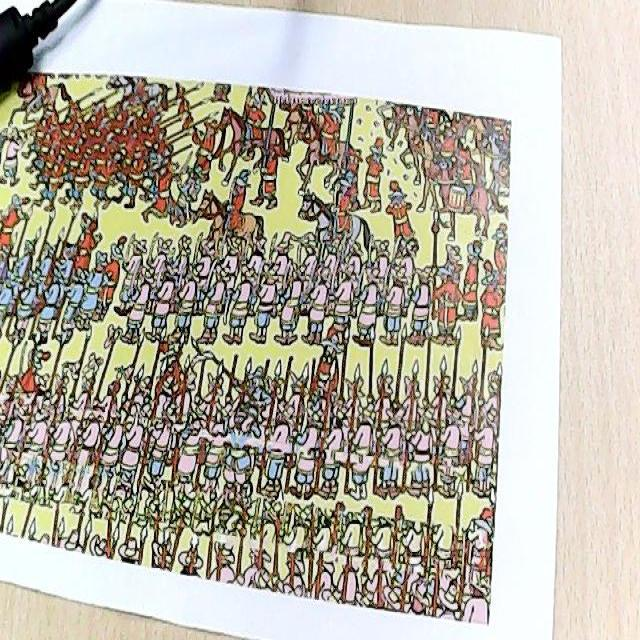waldo: (61, 233, 72, 260)
